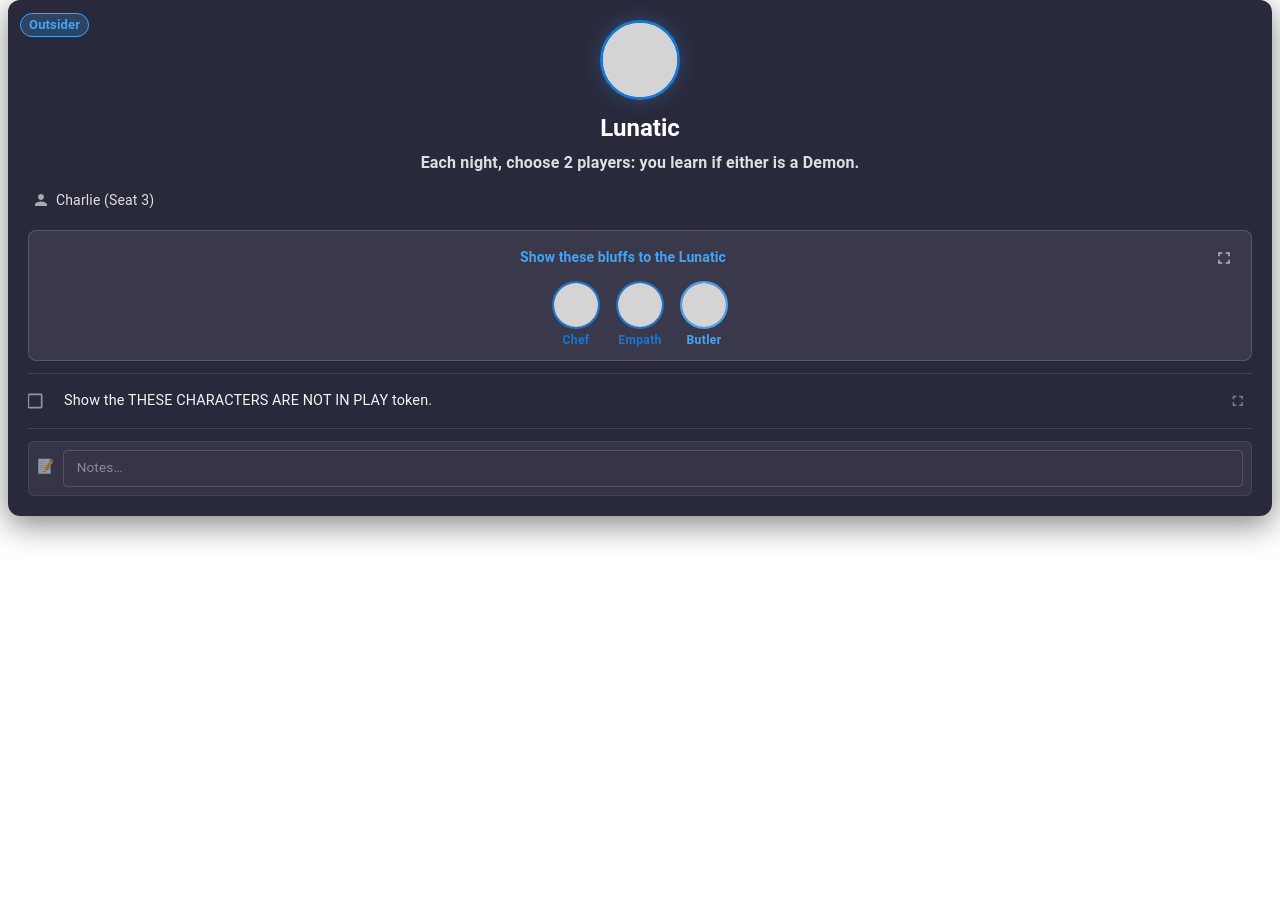
it: NightFlashcard › Lunatic bluffs › opens the private bluff screen from the Lunatic bluff panel
Click the button with test id "lunatic-bluffs-fullscreen-btn" at (1224, 258), box x1=1209 y1=243 x2=1239 y2=273
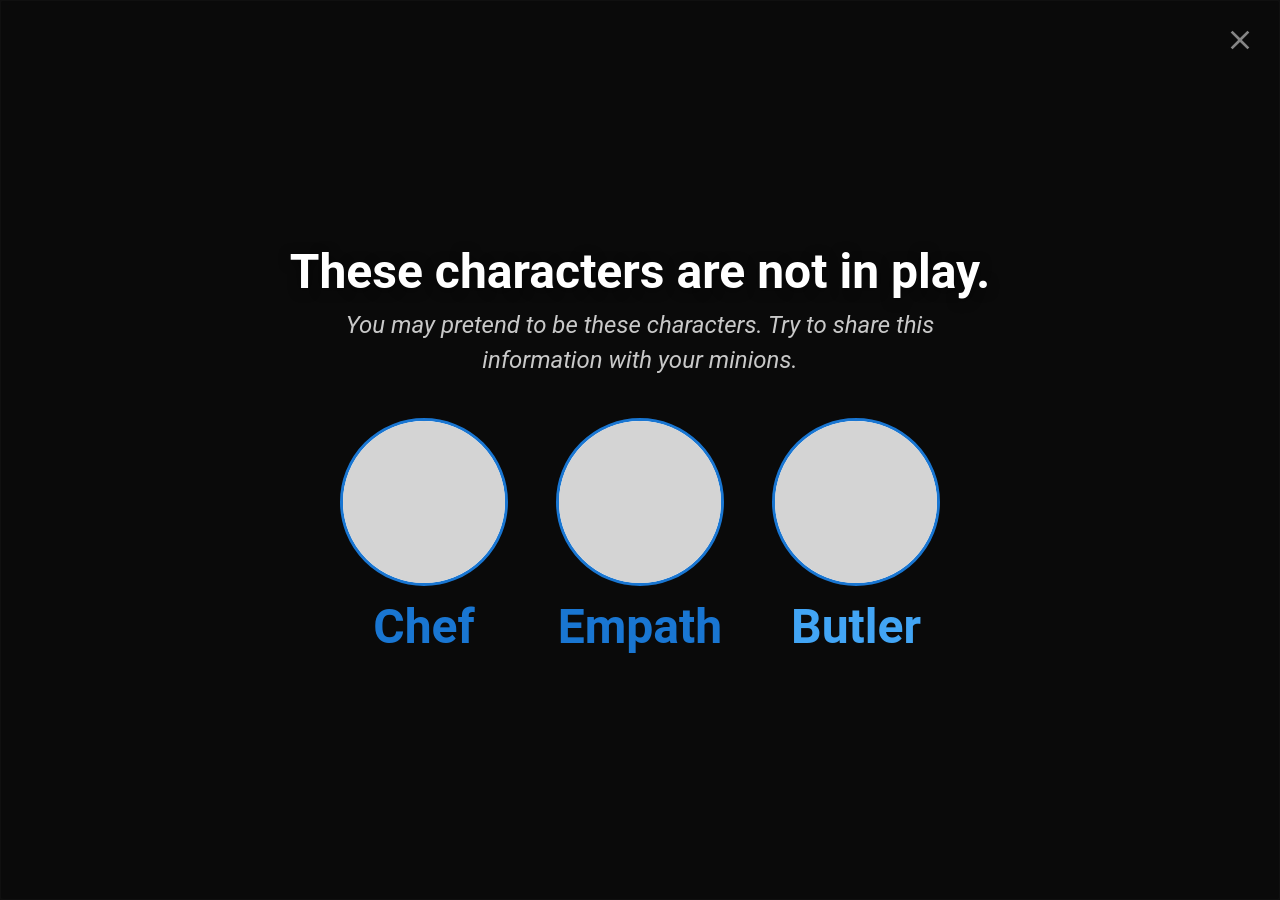
Expected: the heading "These characters are not in play." is shown, x1=290 y1=244 x2=990 y2=300
